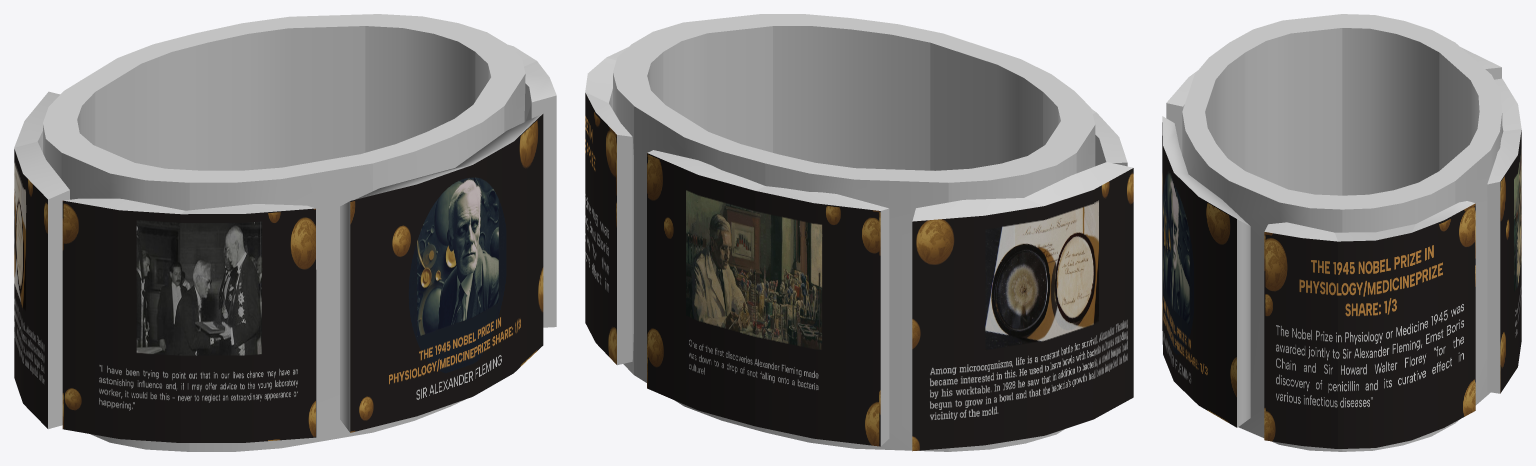
File: alexander fleming1.fbx
3 renders of one model, left to right at view 1: azimuth 30°, elevation 25°; view 2: azimuth 150°, elevation 25°; view 3: azimuth 270°, elevation 25°, orthographic. The views are drawn at different scales.
Visible parts, largest first — view 1: polySurface24, polySurface27, polySurface25, polySurface29; view 2: polySurface24, polySurface26, polySurface29, polySurface28; view 3: polySurface24, polySurface28, polySurface25, polySurface26.
Part boxes in pixels (bbox=[...]): polySurface24: bbox=[14, 14, 556, 451]; polySurface27: bbox=[62, 200, 316, 442]; polySurface25: bbox=[350, 114, 543, 432]; polySurface29: bbox=[14, 149, 47, 428]; polySurface24: bbox=[585, 14, 1133, 451]; polySurface26: bbox=[647, 153, 880, 446]; polySurface29: bbox=[912, 168, 1133, 451]; polySurface28: bbox=[585, 93, 616, 364]; polySurface24: bbox=[1162, 14, 1521, 451]; polySurface28: bbox=[1264, 203, 1475, 448]; polySurface25: bbox=[1162, 122, 1236, 427]; polySurface26: bbox=[1500, 130, 1521, 393].
Size of the model in its own units: 8.15 by 4.12 by 5.54.
6 materials, 5 textured.
